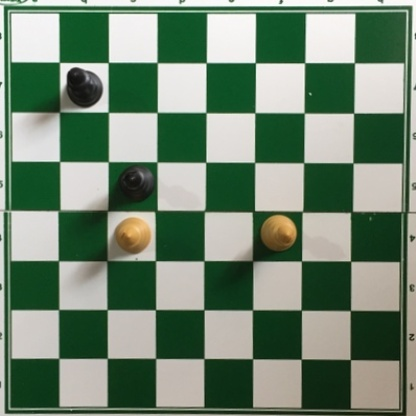black-bishop: (115, 162, 157, 205), (64, 66, 103, 110)
white-bishop: (257, 213, 300, 252), (113, 217, 152, 255)
